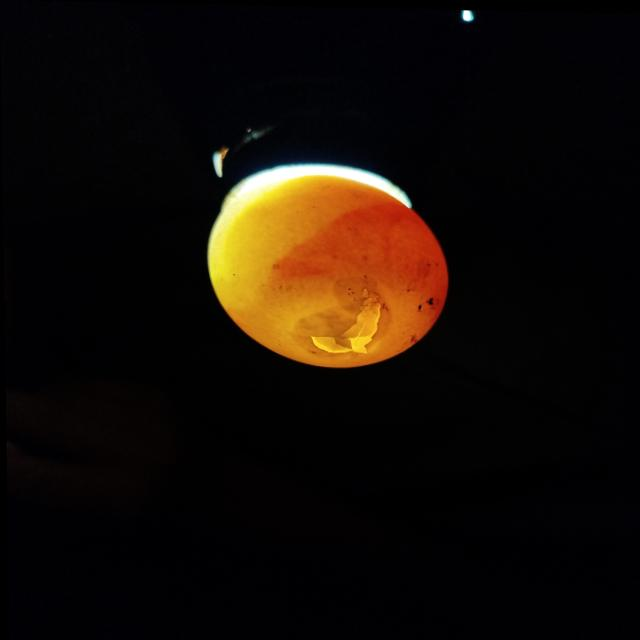Gema Quebrada: (271, 201, 448, 320)
